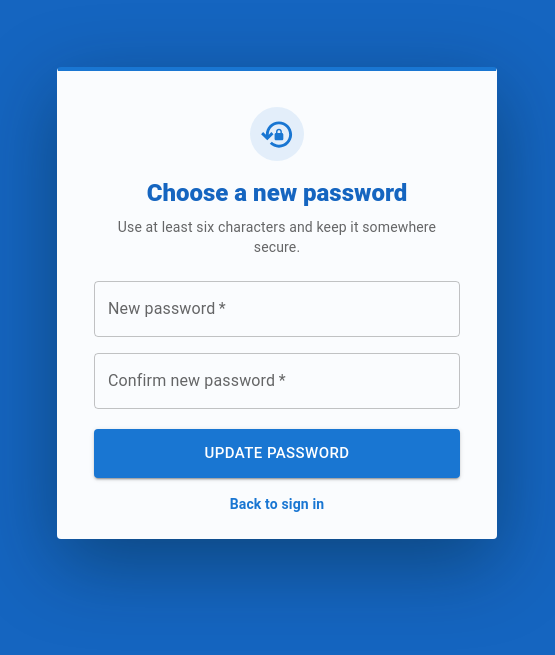
ResetPassword › clears the recovery token and validates password confirmation
The width and height of the screenshot is (555, 655).
Type "newpass" into the password field labelled "New password *" at (277, 309), box left=94, top=281, right=460, bottom=337
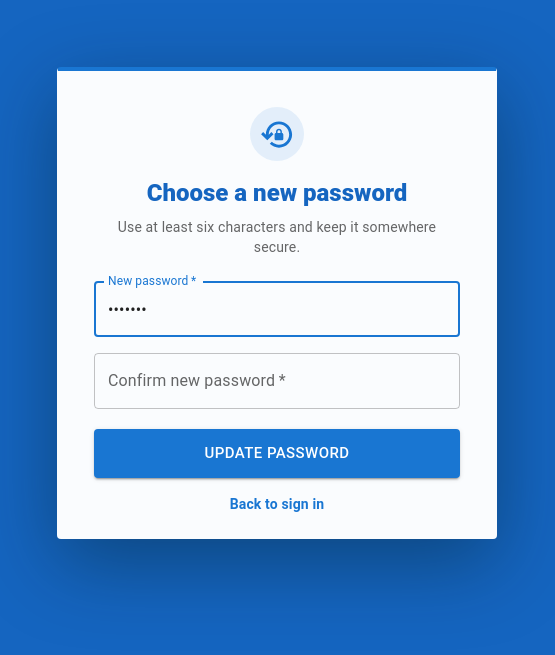
Type "different" into the password field labelled "Confirm new password *" at (277, 381), box left=94, top=353, right=460, bottom=409
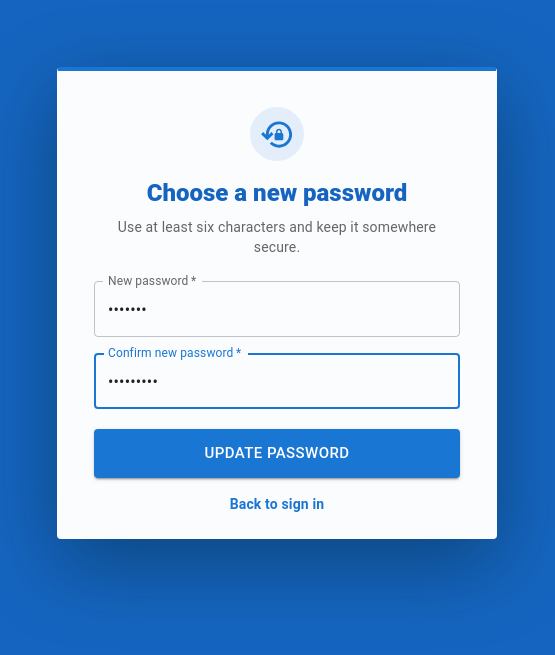
Click the button "Update password" at (277, 454), box left=94, top=429, right=460, bottom=478
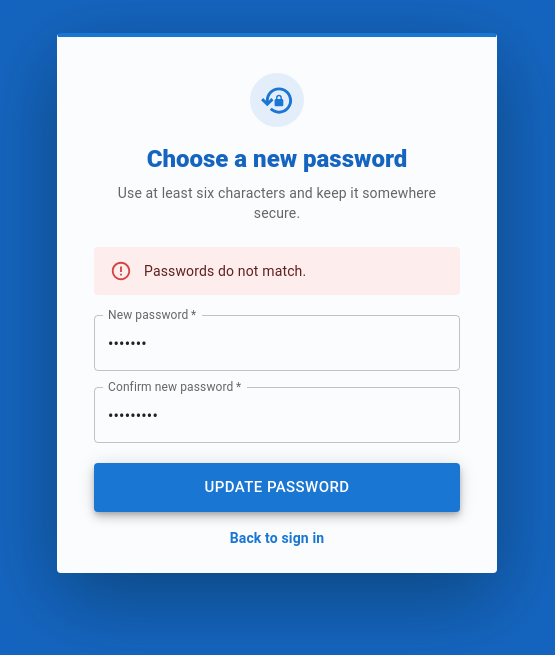
Check: the text "Passwords do not match." is shown, box left=144, top=263, right=306, bottom=279
